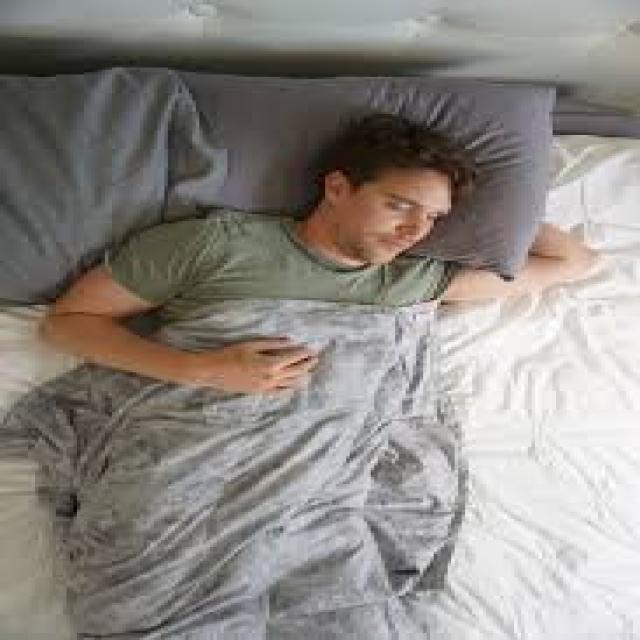blanket: (9, 304, 459, 640)
